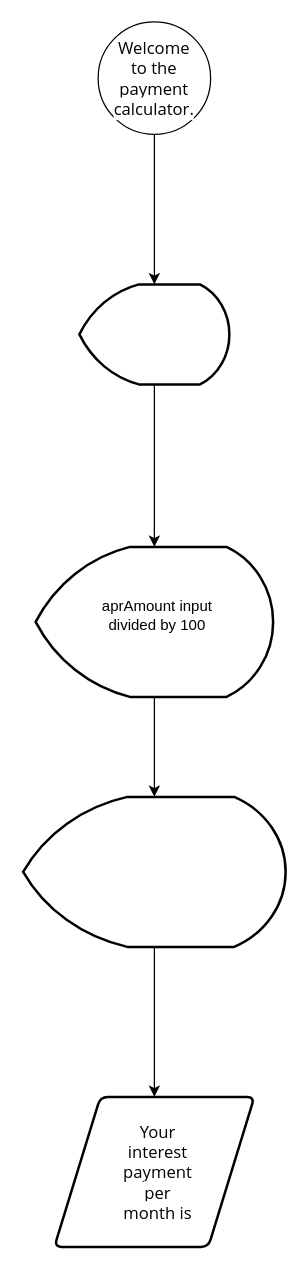
Image size: 308x1270. Some labels were removed from this diagram. Each missing label, with the box of its shape:
loanAmount input: (78, 282, 230, 385)
price = loanAmount* (aprAmount divided by 12): (21, 795, 286, 948)
